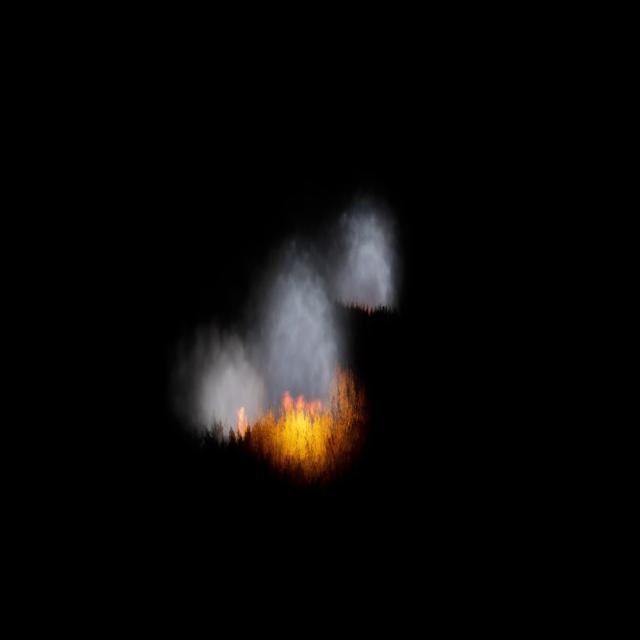fire: (236, 361, 366, 474)
smoke: (176, 196, 400, 451)
